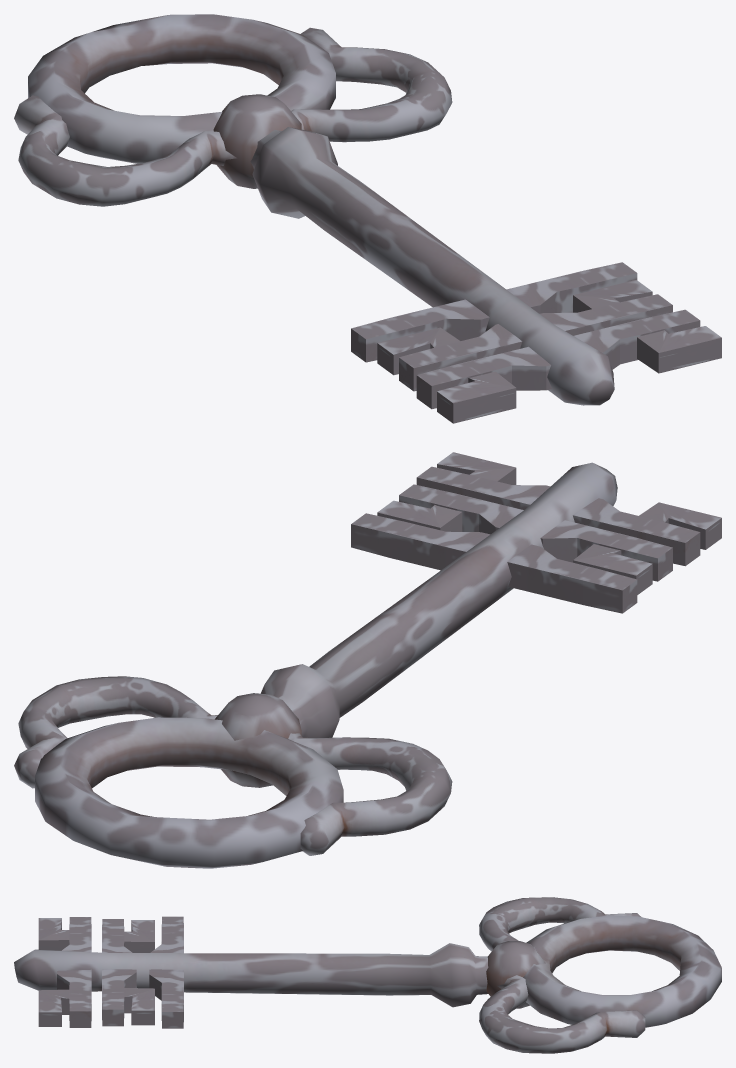
Rendered from Key_Gold.fbx.
The picture shows the model from 3 angles, top to bottom: view 1: azimuth 30°, elevation 25°; view 2: azimuth 150°, elevation 25°; view 3: azimuth 270°, elevation 25°; orthographic projection. The views are drawn at different scales.
Visible parts, largest first — view 1: Key_Gold; view 2: Key_Gold; view 3: Key_Gold.
Boxes of the visible parts, bbox=[...] form: Key_Gold: bbox=[14, 14, 721, 423]; Key_Gold: bbox=[14, 452, 721, 868]; Key_Gold: bbox=[14, 897, 721, 1053].
Bounding box in the file's own units: 5.81 × 1.23 × 12.23.
